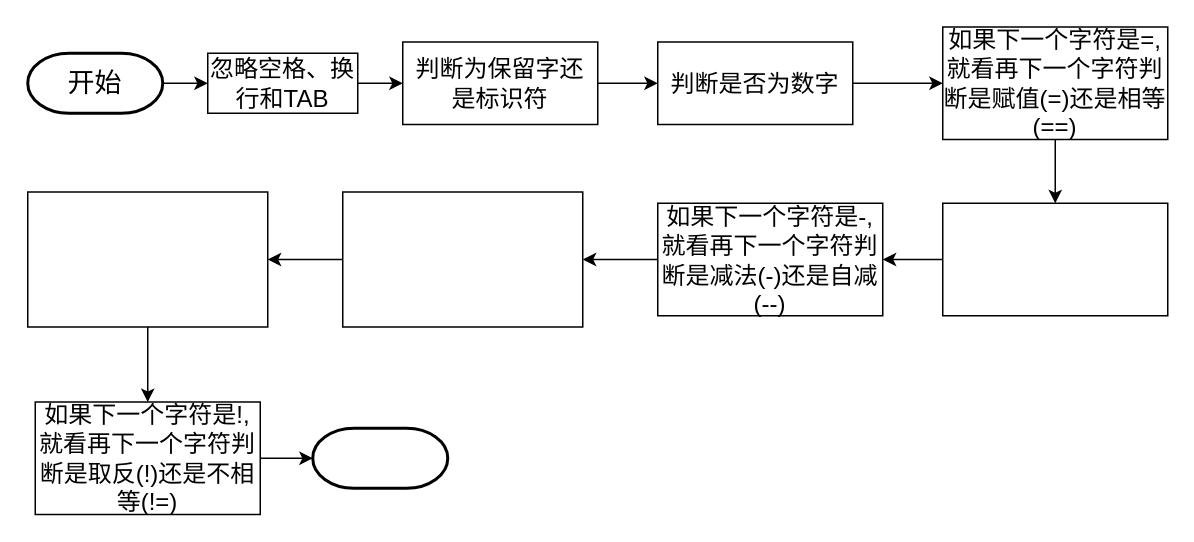
Image size: 1194x542. Some labels were removed from this diagram. The centre of each missing label's shape, as x and y in pixels:
如果下一个字符是+,就看再下一个字符判断是加法(+)还是自加(++): the point at 1054,259
如果下一个字符是<,就看再下一个字符判断是小于(<)还是小于等于(<=)还是输出(<<): the point at 462,258
如果下一个字符是>,就看再下一个字符判断是大于(>)还是大于等于(>=)还是输入(>>): the point at 147,258
结束: the point at 379,457
